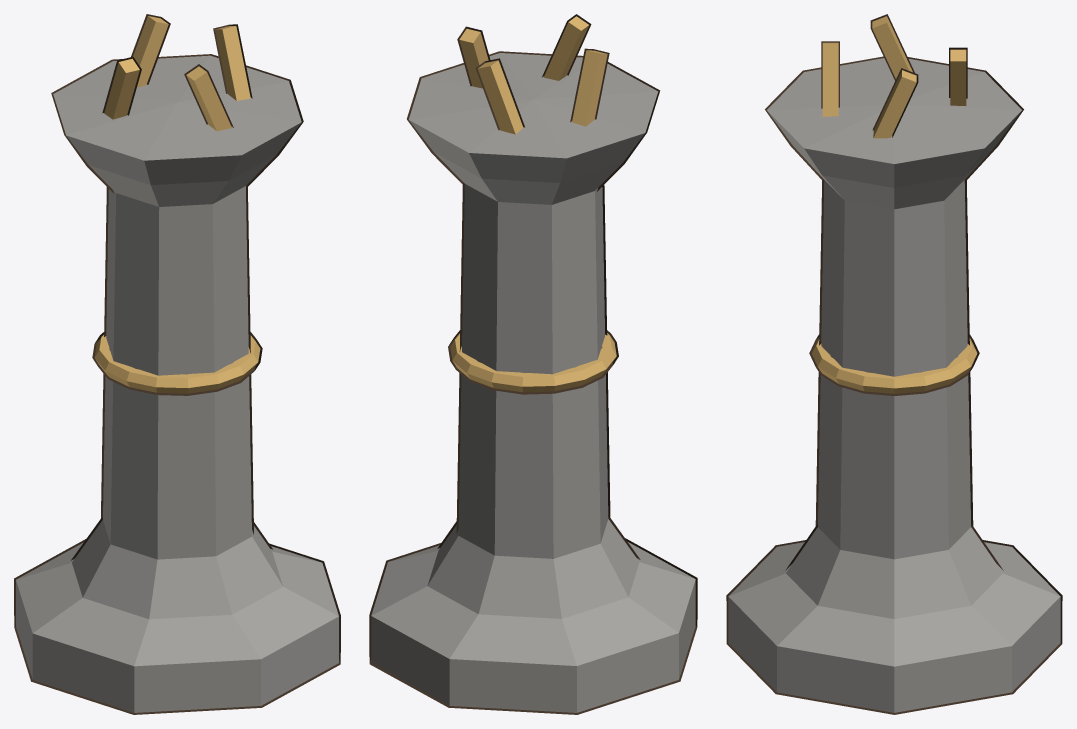
File: firas_pedestal.glb
The picture shows the model from 3 angles, left to right: view 1: azimuth 30°, elevation 25°; view 2: azimuth 150°, elevation 25°; view 3: azimuth 270°, elevation 25°; orthographic projection.
Visible parts, largest first — view 1: Pedestal, BrassBand, Claw0, Claw3, Claw2, Claw1; view 2: Pedestal, BrassBand, Claw1, Claw2, Claw3, Claw0; view 3: Pedestal, BrassBand, Claw0, Claw3, Claw2, Claw1.
Part boxes in pixels (x1,y1,x2,y2): Pedestal: (14, 54, 340, 714); BrassBand: (92, 332, 262, 395); Claw0: (213, 24, 252, 100); Claw3: (184, 64, 233, 131); Claw2: (102, 56, 141, 119); Claw1: (131, 14, 170, 87); Pedestal: (369, 51, 697, 714); BrassBand: (448, 330, 618, 394); Claw1: (475, 58, 524, 134); Claw2: (570, 48, 609, 126); Claw3: (542, 14, 591, 80); Claw0: (457, 26, 490, 88); Pedestal: (726, 56, 1062, 714); BrassBand: (809, 334, 979, 395); Claw0: (872, 68, 918, 138); Claw3: (821, 41, 839, 116); Claw2: (870, 14, 914, 80); Claw1: (949, 47, 967, 105).
Bounding box in the file's own units: 0.5261 × 1.03 × 0.5261.
